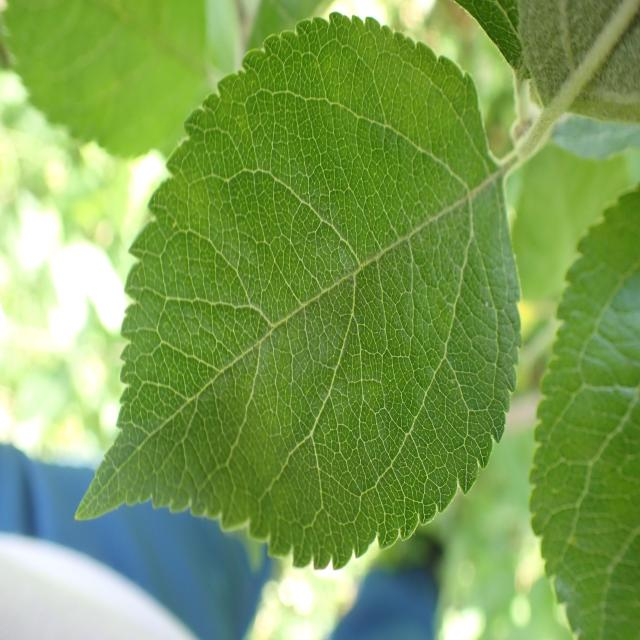healthy: (74, 11, 522, 571), (528, 183, 640, 639)
